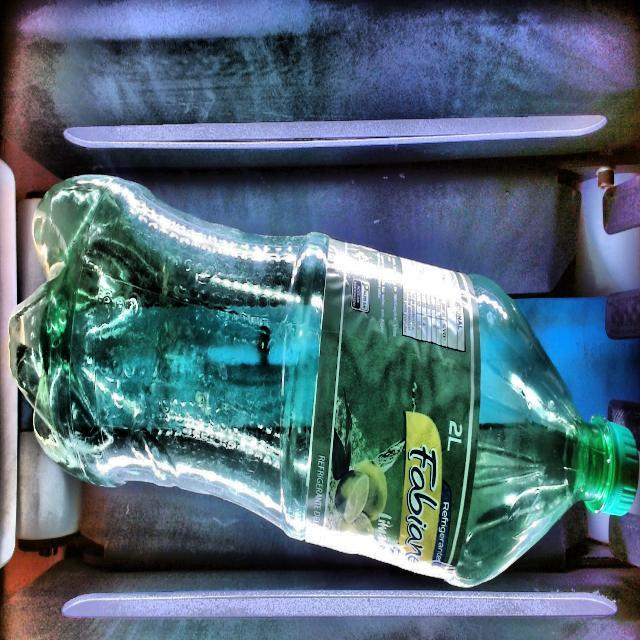bottom: (7, 147, 172, 507)
cap: (589, 418, 639, 516)
label: (309, 240, 480, 569)
neck: (453, 276, 639, 584)
